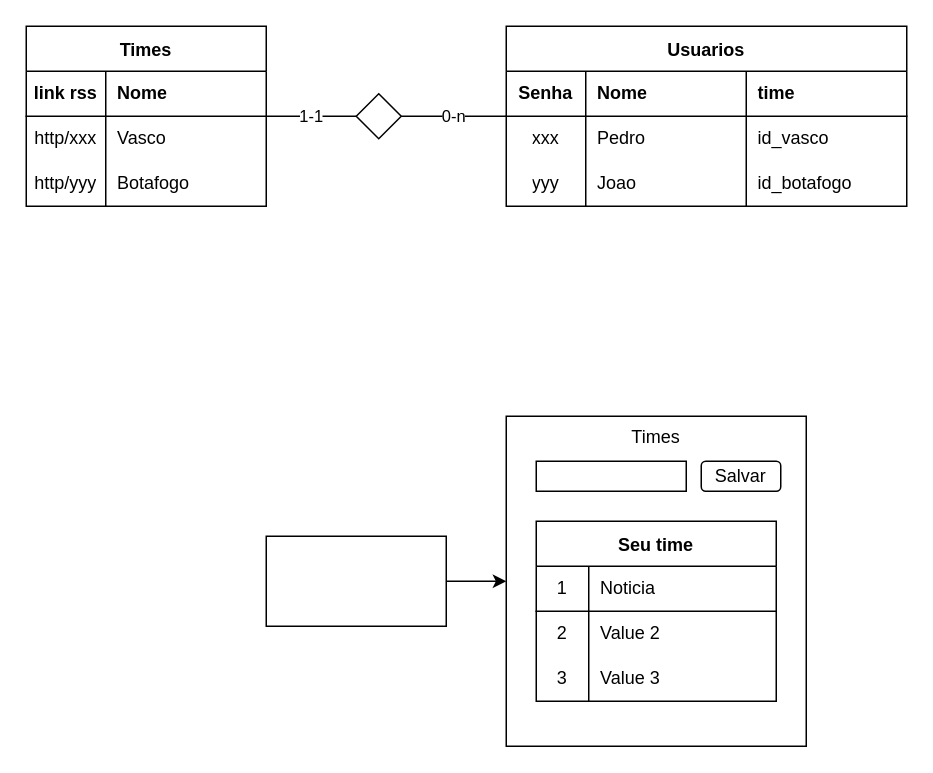
This 933x773 diagram has some shape labels left out. Here are the shapes that lost their labels. From the top down, the centre of each, then its label:
At point (610, 475): "Seu time ▼".
At point (355, 580): "Login".
